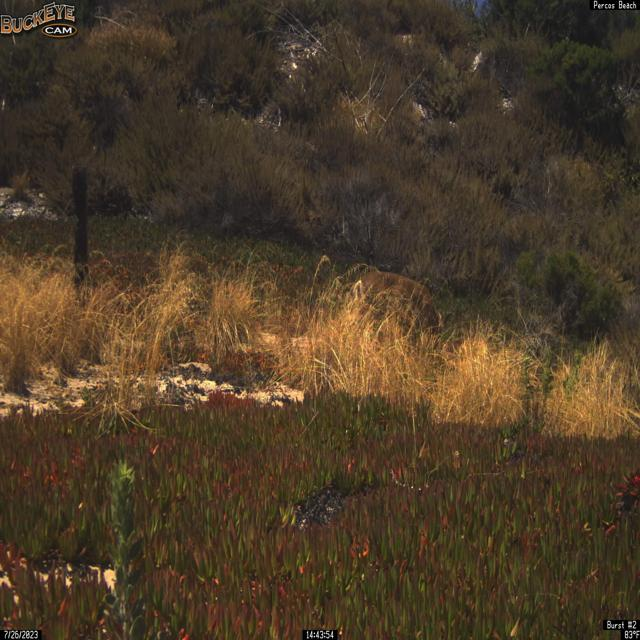deer: (351, 270, 452, 340)
